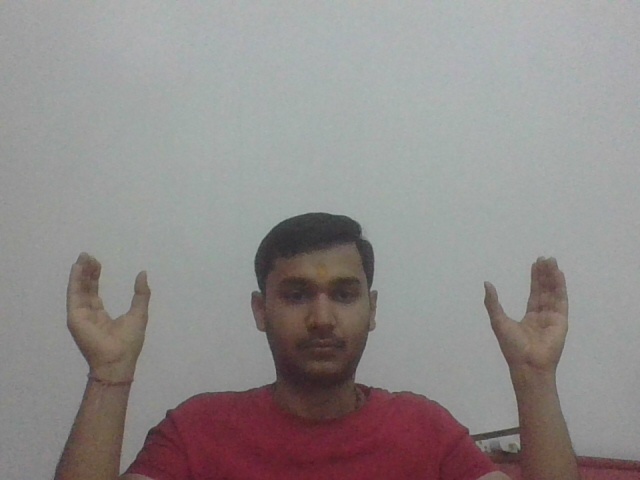U: (481, 253, 578, 371), (64, 248, 158, 368)
